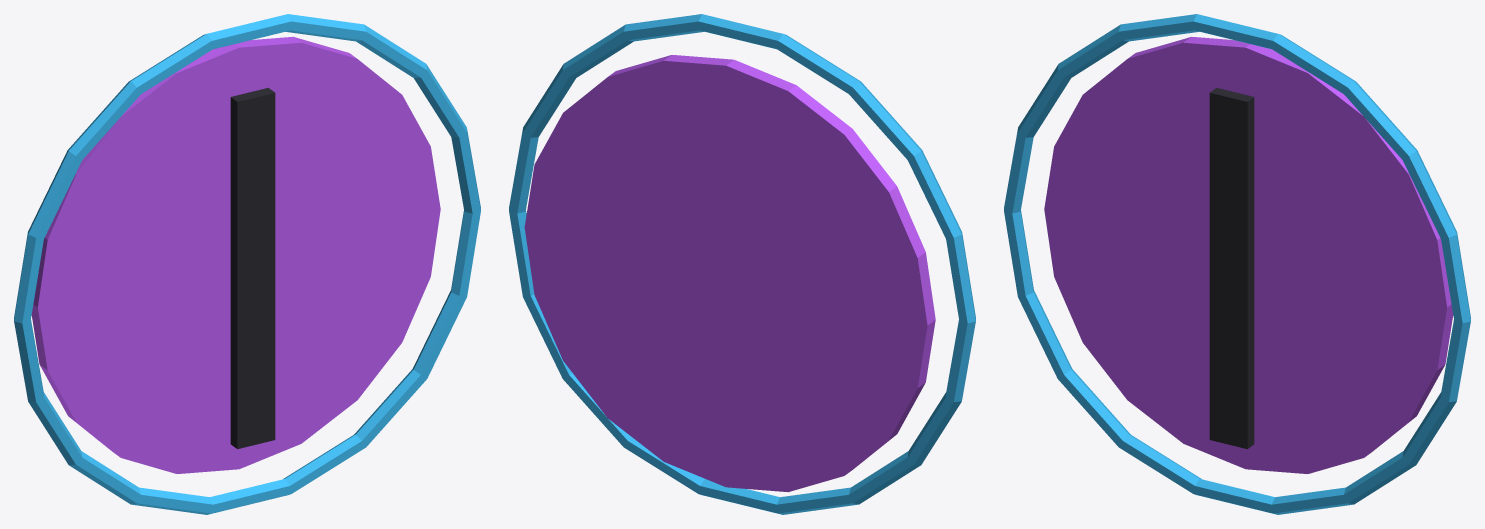
Rendered from bass_trap_marker.glb.
3 views of the same model, side by side, from view 1: azimuth 30°, elevation 25°; view 2: azimuth 150°, elevation 25°; view 3: azimuth 330°, elevation 25° (orthographic).
Visible parts, largest first — view 1: disk, pulse, beat; view 2: disk, pulse; view 3: disk, pulse, beat.
Boxes of the visible parts, x1,y1,x2,y2 form: disk: [31, 36, 440, 473]; pulse: [14, 14, 480, 514]; beat: [230, 87, 275, 449]; disk: [524, 55, 935, 492]; pulse: [509, 14, 975, 514]; disk: [1044, 36, 1453, 473]; pulse: [1004, 14, 1470, 514]; beat: [1209, 87, 1254, 449].
Bounding box in the file's own units: 1.97 × 1.94 × 0.185.
